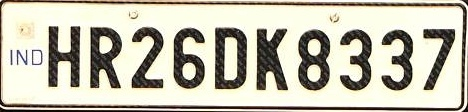character: (253, 25, 291, 93), (45, 23, 83, 90), (212, 25, 249, 92), (87, 25, 124, 90), (128, 25, 165, 90), (169, 25, 206, 90), (295, 26, 330, 93), (338, 27, 373, 93), (419, 24, 454, 90), (380, 27, 414, 93)
